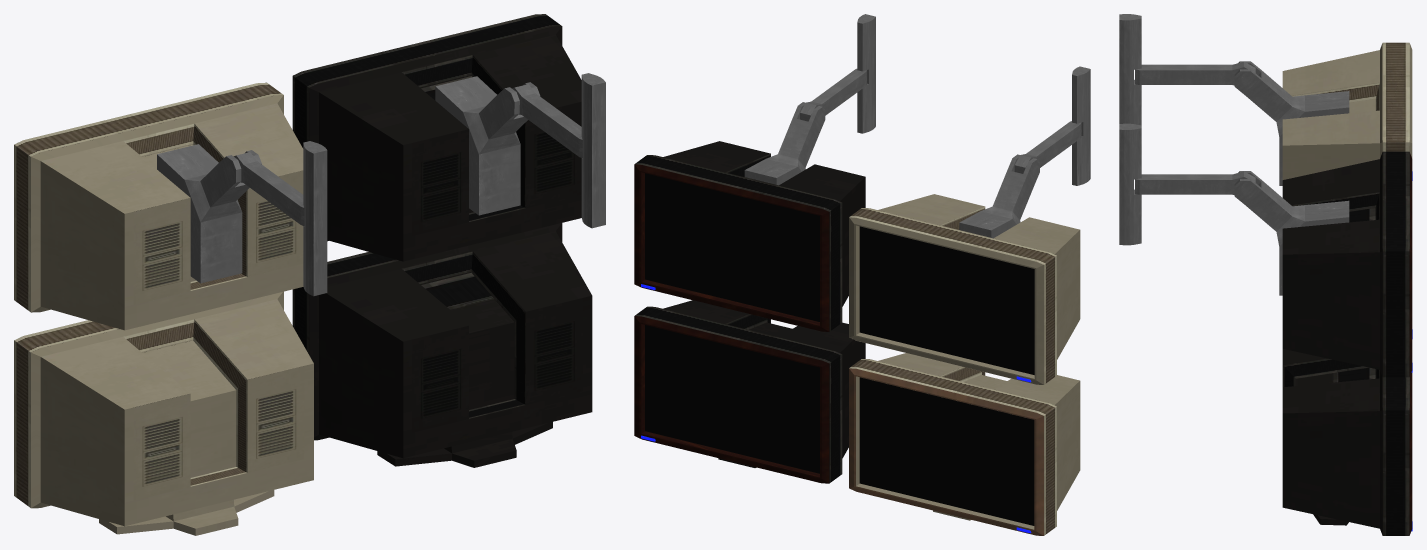
Rendered from tvs.glb.
The picture shows the model from 3 angles, left to right: view 1: azimuth 30°, elevation 25°; view 2: azimuth 150°, elevation 25°; view 3: azimuth 270°, elevation 25°; orthographic projection. The views are drawn at different scales.
Parts seen in each view (by area): view 1: Object_9, Object_7, Object_8, Object_6; view 2: Screen4, Screen2, Screen1, Screen3, Object_7, Object_9, Object_6, Object_4, Object_8, Object_2; view 3: Object_9, Object_6, Object_7, Object_8, Object_4.
Boxes of the visible parts, x1,y1,x2,y2 form: Object_9: (292,14,592,467); Object_7: (31,82,313,535); Object_8: (14,83,304,507); Object_6: (157,73,605,296); Screen4: (859,377,1034,525); Screen2: (859,226,1034,374); Screen1: (645,173,819,321); Screen3: (645,325,819,473); Object_7: (849,194,1080,529); Object_9: (635,141,865,483); Object_6: (744,14,1090,238); Object_4: (634,164,829,483); Object_8: (849,207,1056,535); Object_2: (849,368,1043,535); Object_9: (1282,151,1409,535); Object_6: (1119,14,1349,295); Object_7: (1282,43,1412,179); Object_8: (1292,42,1409,151); Object_4: (1409,152,1412,534).
Bounding box in the file's own units: 7.64 × 6.24 × 4.52.
8 materials, 6 textured.
